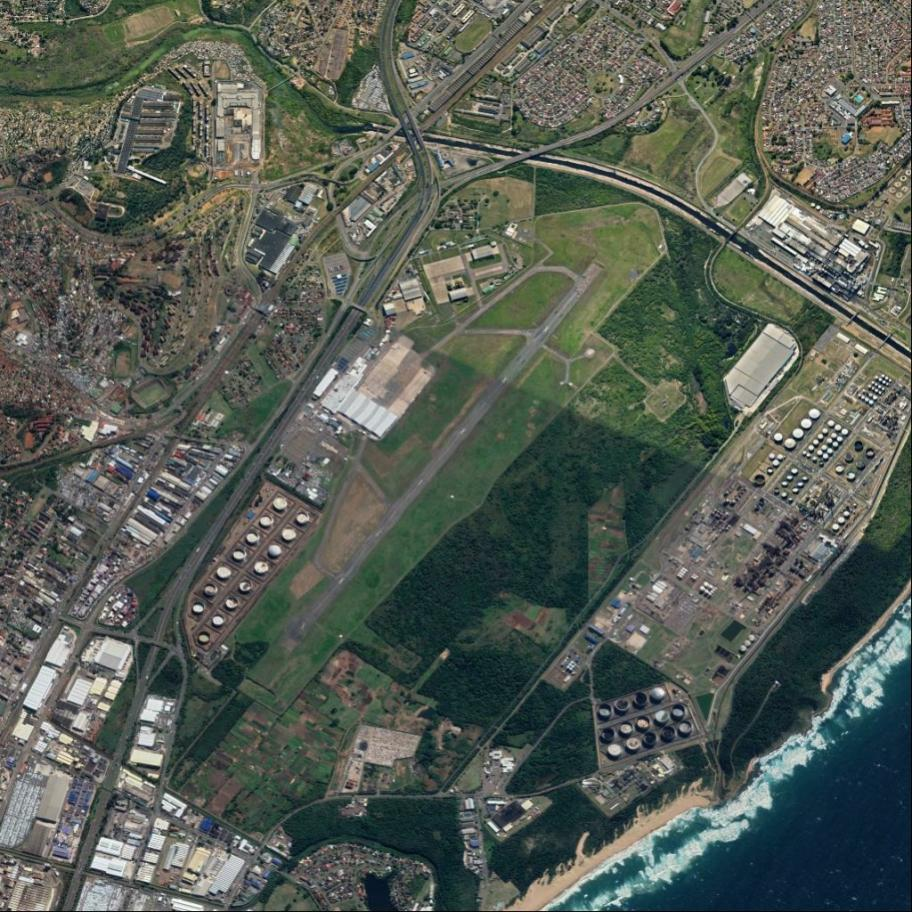storage-tank: (669, 704, 687, 721), (618, 721, 634, 738), (633, 691, 649, 708), (615, 699, 631, 716), (599, 728, 615, 744), (635, 716, 651, 732), (650, 688, 666, 704), (626, 737, 641, 754), (642, 733, 658, 748), (598, 704, 612, 721), (607, 745, 624, 759), (656, 711, 671, 726), (661, 726, 676, 741), (281, 528, 297, 542), (232, 548, 248, 562), (203, 583, 218, 597), (678, 722, 692, 737), (198, 631, 212, 645), (245, 531, 260, 544), (254, 561, 269, 574), (216, 567, 232, 579), (269, 543, 282, 557), (273, 498, 288, 510), (193, 602, 206, 615), (213, 613, 225, 627), (260, 516, 274, 528), (239, 581, 253, 593), (297, 512, 309, 525), (226, 598, 240, 609), (753, 476, 766, 487), (808, 409, 821, 419), (793, 428, 804, 439), (853, 441, 864, 451), (844, 452, 855, 462), (856, 460, 866, 470), (835, 465, 845, 475), (785, 438, 795, 448), (773, 432, 783, 442), (866, 448, 875, 459), (802, 419, 813, 428), (847, 473, 857, 482), (833, 524, 841, 533), (827, 419, 835, 428), (841, 428, 849, 436), (767, 467, 774, 476), (773, 487, 780, 495), (772, 460, 780, 467), (748, 634, 755, 642), (745, 639, 752, 647), (740, 644, 747, 652), (792, 486, 799, 493), (787, 497, 794, 504), (844, 511, 851, 518), (839, 517, 846, 524), (778, 453, 785, 460), (770, 453, 777, 460), (835, 424, 842, 431), (786, 475, 794, 481), (826, 448, 834, 454), (782, 492, 788, 499), (833, 441, 839, 448), (826, 437, 833, 443), (808, 445, 814, 452), (821, 445, 828, 451), (802, 476, 810, 481), (792, 468, 798, 474), (818, 434, 824, 440), (823, 428, 829, 434), (813, 439, 819, 445), (818, 450, 824, 456), (810, 202, 816, 208), (797, 481, 804, 486), (824, 453, 829, 460), (838, 437, 843, 443), (869, 400, 875, 405), (869, 392, 875, 397), (783, 482, 788, 487), (832, 433, 837, 438), (873, 395, 878, 400), (875, 388, 880, 393), (865, 398, 870, 403), (862, 395, 867, 400), (807, 452, 811, 458), (802, 451, 808, 455), (813, 457, 818, 461), (817, 205, 821, 210), (875, 375, 879, 380), (878, 384, 882, 389), (875, 382, 879, 387), (882, 374, 886, 378), (885, 376, 889, 380), (879, 391, 883, 395), (883, 380, 886, 385), (880, 378, 883, 382), (882, 387, 885, 391), (872, 381, 875, 385), (869, 385, 873, 388), (890, 379, 892, 383), (873, 387, 875, 391)
